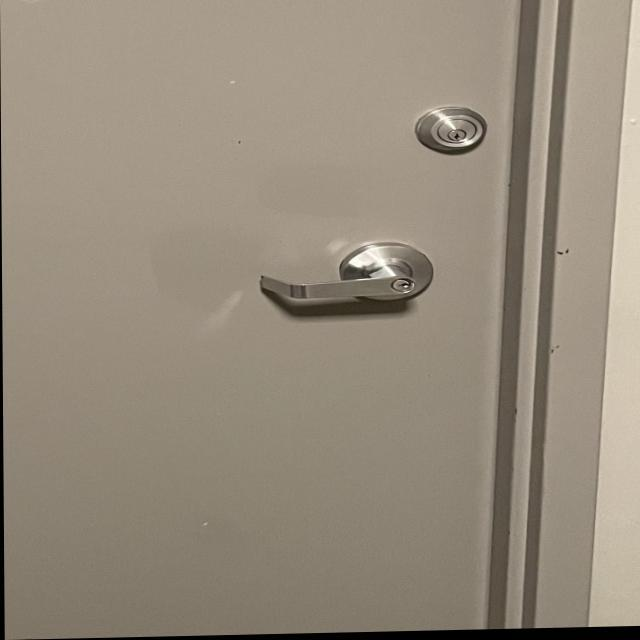door_handle: (241, 254, 445, 326)
